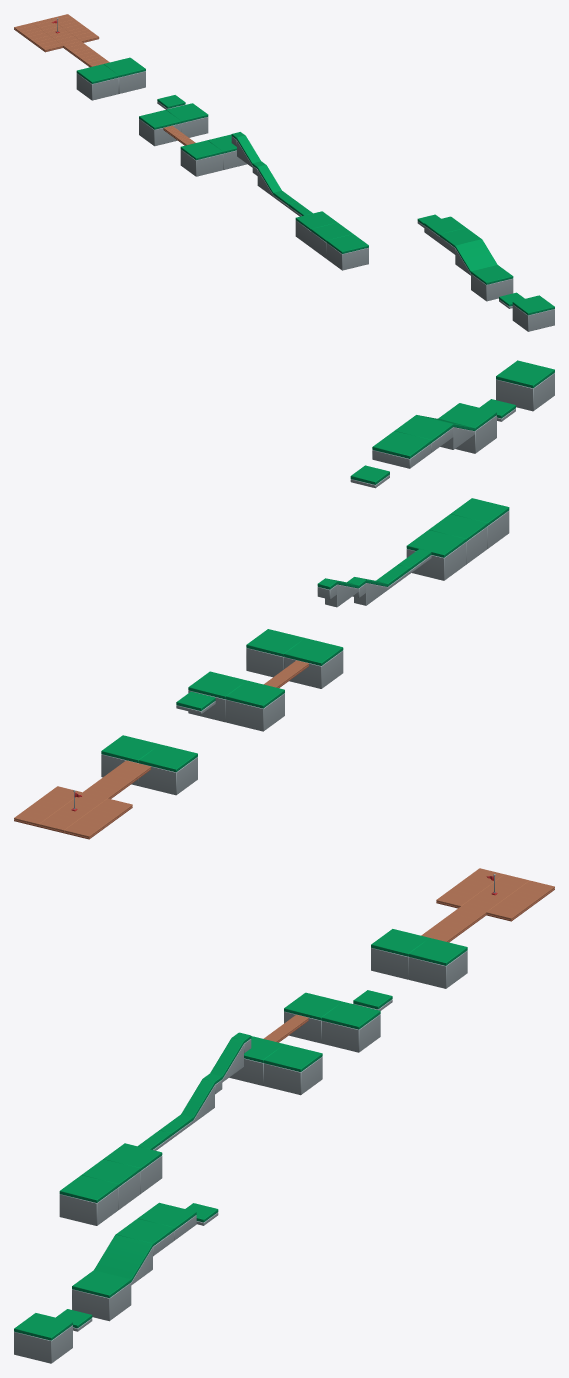
The model's file is level3.glb.
3 views of the same model, one above another, from view 1: azimuth 30°, elevation 25°; view 2: azimuth 150°, elevation 25°; view 3: azimuth 330°, elevation 25° (orthographic). The views are drawn at different scales.
Visible parts, largest first — view 1: Start_3, platform_6x6x4_green.003, platform_6x6x4_green.009, platform_6x6x4_green.001, platform_6x6x4_green.002, platform_6x6x4_green.007, platform_slope_6x6x4_green.001, platform_6x6x4_green.010, platform_6x6x4_green.008, platform_6x6x4_green.004, platform_6x6x4_green.005, platform_6x6x4_green.006 (+4 smaller); view 2: platform_6x6x4_green.007, Start_3, platform_6x6x4_green.009, platform_6x6x4_green.001, platform_6x6x4_green.005, platform_6x6x4_green.006, platform_6x6x4_green.002, platform_6x6x2_green.002, platform_6x6x4_green.003, platform_6x6x4_green.004, platform_6x6x4_green.008, platform_6x6x4_green.010 (+3 smaller); view 3: platform_6x6x4_green.003, platform_6x6x4_green.006, platform_6x6x4_green.010, platform_6x6x4_green.008, Start_3, platform_6x6x4_green.002, platform_slope_6x6x4_green.001, platform_6x6x4_green.009, platform_6x6x4_green.007, platform_6x6x4_green.004, platform_6x6x4_green.005, platform_6x6x4_green.001 (+4 smaller).
Boxes of the visible parts, x1,y1,x2,y2 form: Start_3: (512, 295, 554, 331); platform_6x6x4_green.003: (326, 234, 368, 270); platform_6x6x4_green.009: (76, 64, 118, 100); platform_6x6x4_green.001: (180, 140, 222, 176); platform_6x6x4_green.002: (471, 265, 513, 301); platform_6x6x4_green.007: (139, 110, 181, 146); platform_slope_6x6x4_green.001: (455, 239, 497, 275); platform_6x6x4_green.010: (104, 57, 145, 93); platform_6x6x4_green.008: (166, 103, 208, 137); platform_6x6x4_green.004: (311, 222, 352, 258); platform_6x6x4_green.005: (295, 211, 337, 247); platform_6x6x4_green.006: (207, 134, 247, 169); platform_6x6x4_green.007: (226, 680, 284, 731); Start_3: (496, 360, 554, 411); platform_6x6x4_green.009: (139, 744, 197, 795); platform_6x6x4_green.001: (284, 638, 343, 688); platform_6x6x4_green.005: (406, 530, 465, 580); platform_6x6x4_green.006: (246, 629, 305, 677); platform_6x6x4_green.002: (438, 403, 496, 453); platform_6x6x2_green.002: (372, 431, 431, 468); platform_6x6x4_green.003: (451, 498, 509, 548); platform_6x6x4_green.004: (429, 514, 487, 564); platform_6x6x4_green.008: (188, 671, 246, 722); platform_6x6x4_green.010: (101, 735, 159, 785); platform_6x6x4_green.003: (59, 1175, 118, 1225); platform_6x6x4_green.006: (263, 1044, 322, 1095); platform_6x6x4_green.010: (408, 938, 467, 988); platform_6x6x4_green.008: (321, 1002, 380, 1052); Start_3: (14, 1313, 72, 1363); platform_6x6x4_green.002: (72, 1270, 131, 1321); platform_slope_6x6x4_green.001: (94, 1234, 152, 1285); platform_6x6x4_green.009: (371, 929, 429, 979); platform_6x6x4_green.007: (284, 992, 342, 1043); platform_6x6x4_green.004: (81, 1159, 140, 1209); platform_6x6x4_green.005: (103, 1143, 162, 1193); platform_6x6x4_green.001: (229, 1036, 284, 1085).
Bounding box in the file's own units: 26 × 10 × 163.
10 materials, 10 textured.
